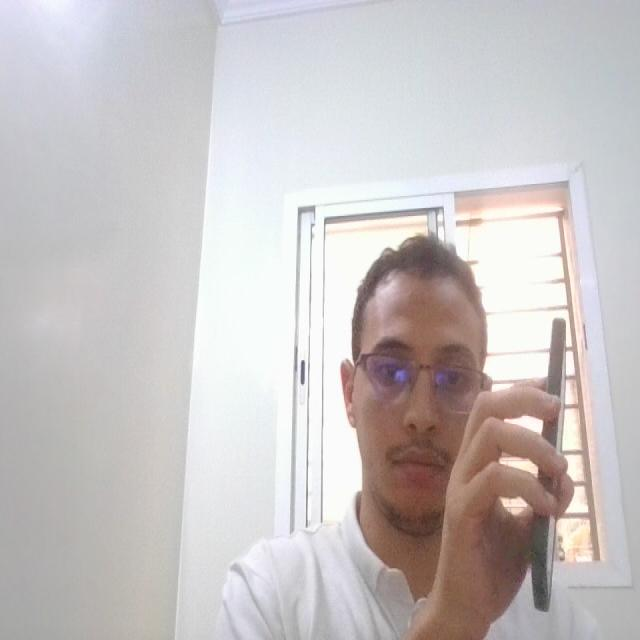phone: (522, 314, 581, 618)
